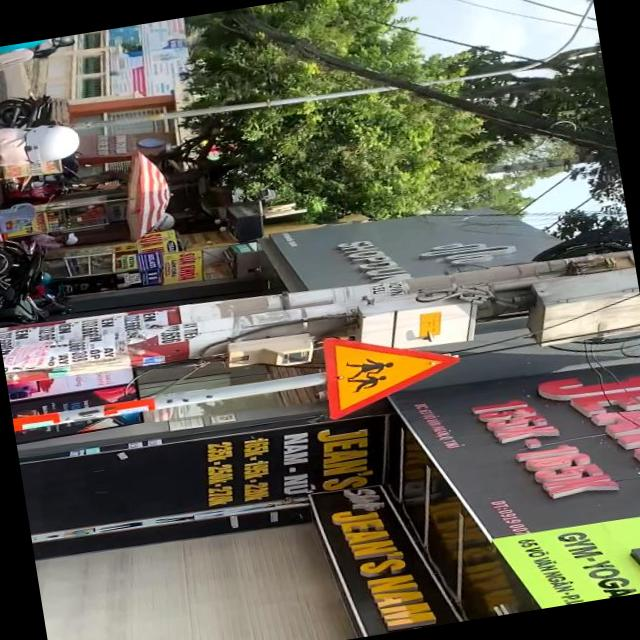W-225: (316, 318, 464, 420)
